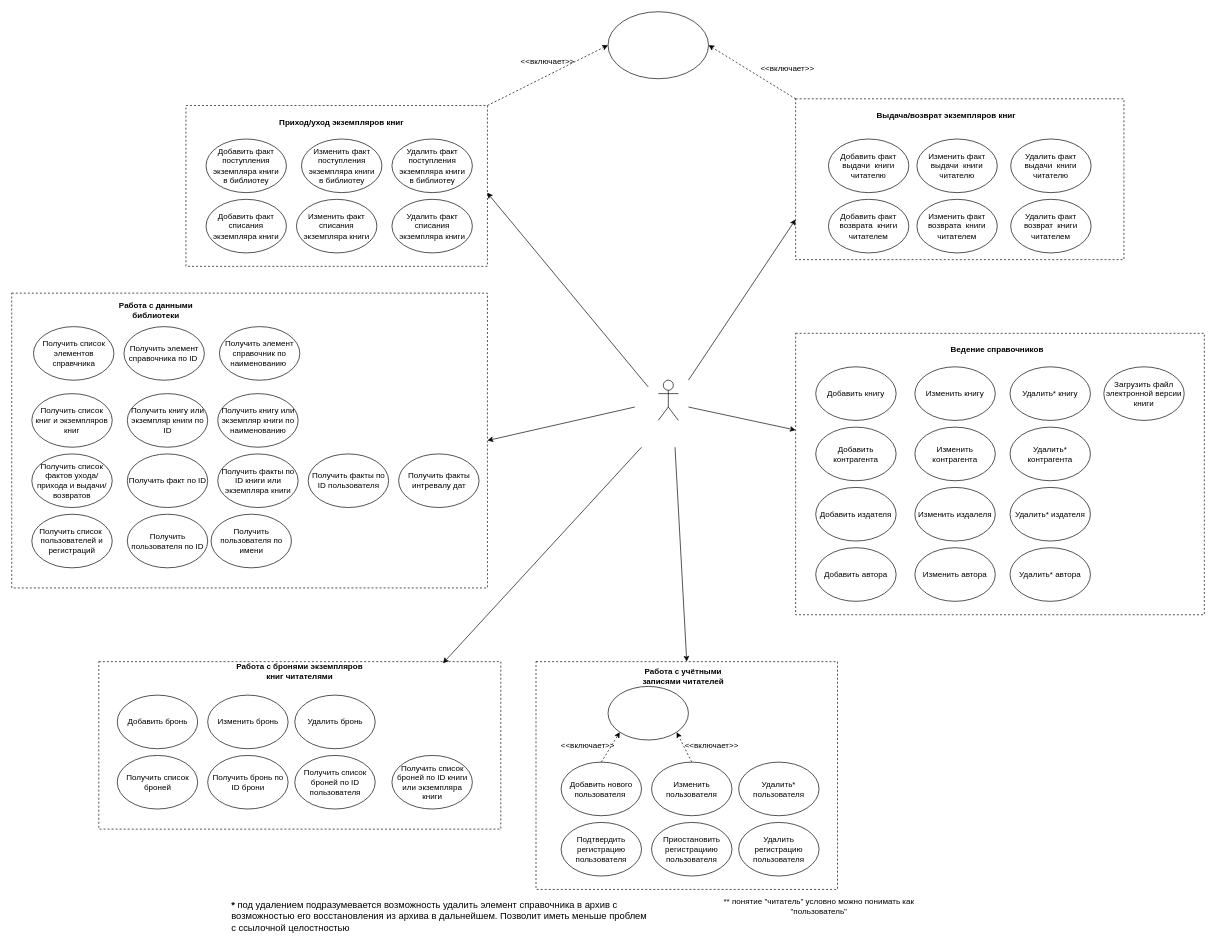
This 1216x948 diagram has some shape labels left out. The centre of each missing label's shape, as x and y in pixels:
Библиотекарь: (668,400)
Ввести информацию о состоянии экземпляра книги: (658,45)
Загрузить фото полльзователя: (647,713)
